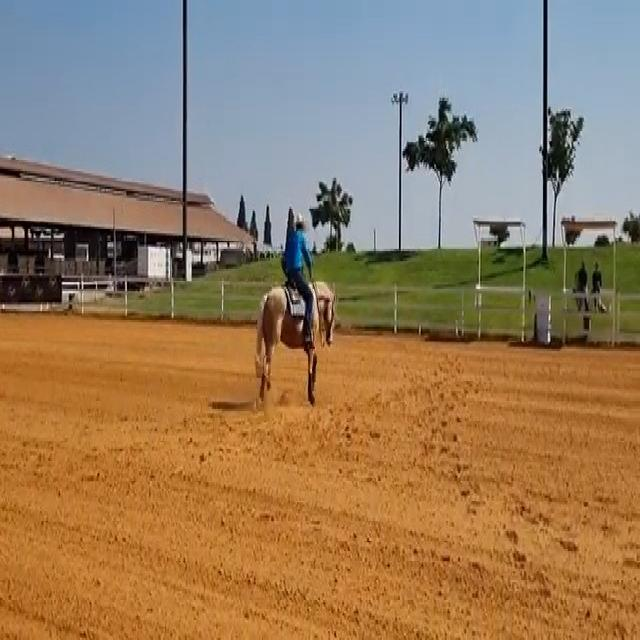horse: (252, 273, 338, 407)
